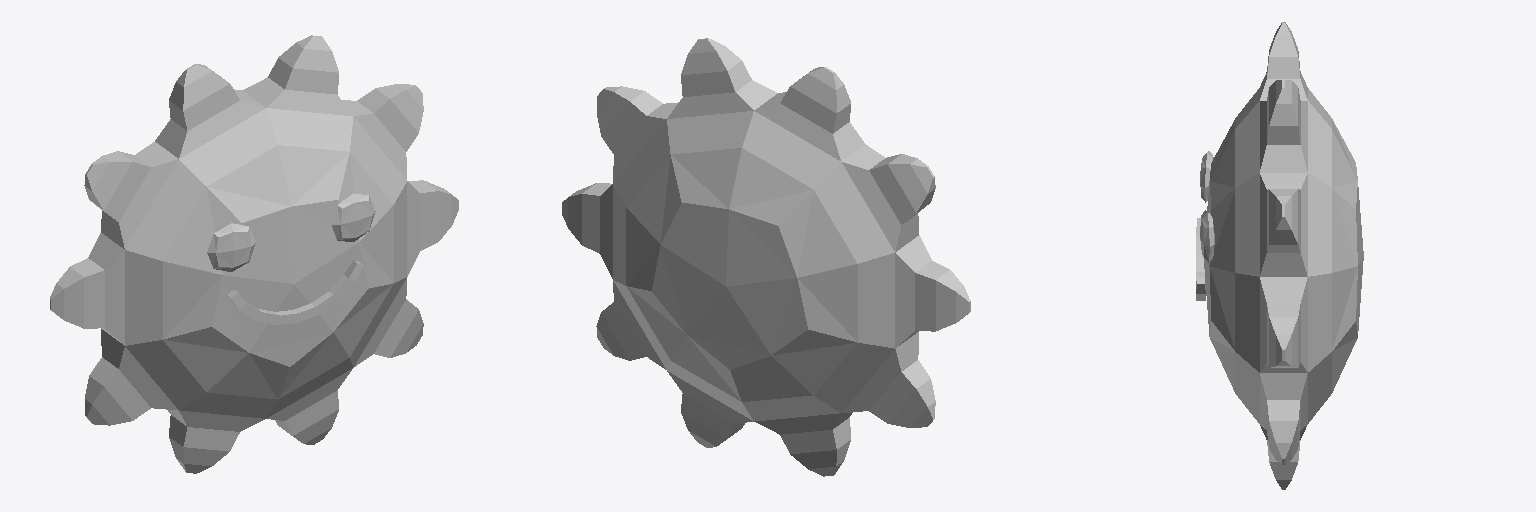
The model's file is Sun_Cartoon_Lowpoly.obj.
The picture shows the model from 3 angles: view 1: azimuth 30°, elevation 25°; view 2: azimuth 150°, elevation 25°; view 3: azimuth 270°, elevation 25°; orthographic projection.
Parts seen in each view (by area): view 1: Sun_Cartoon_Lowpoly.obj; view 2: Sun_Cartoon_Lowpoly.obj; view 3: Sun_Cartoon_Lowpoly.obj.
Part boxes in pixels (x1,y1,x2,y2): Sun_Cartoon_Lowpoly.obj: (50,35,458,473); Sun_Cartoon_Lowpoly.obj: (562,38,970,476); Sun_Cartoon_Lowpoly.obj: (1196,22,1363,489).
Bounding box in the file's own units: 3.09 × 2.96 × 1.1.